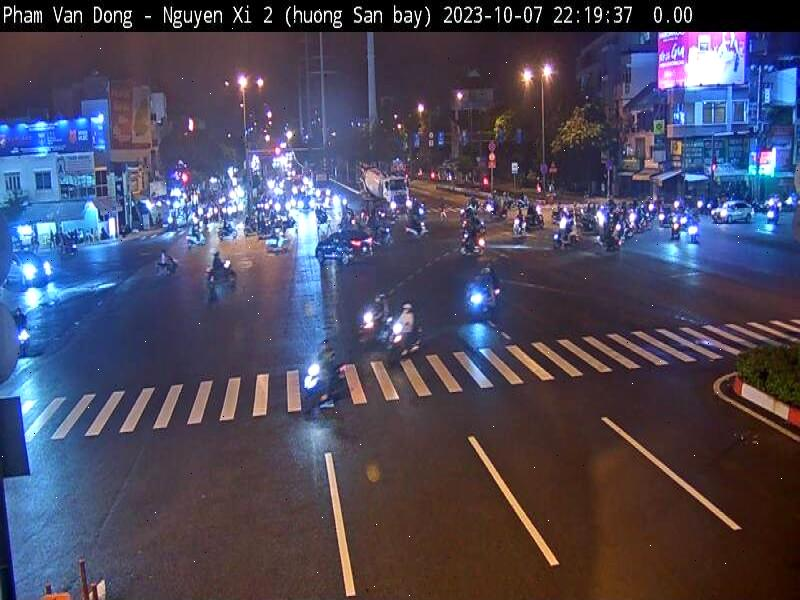motorcycle: (298, 366, 344, 417), (386, 322, 425, 364), (354, 312, 390, 352)
